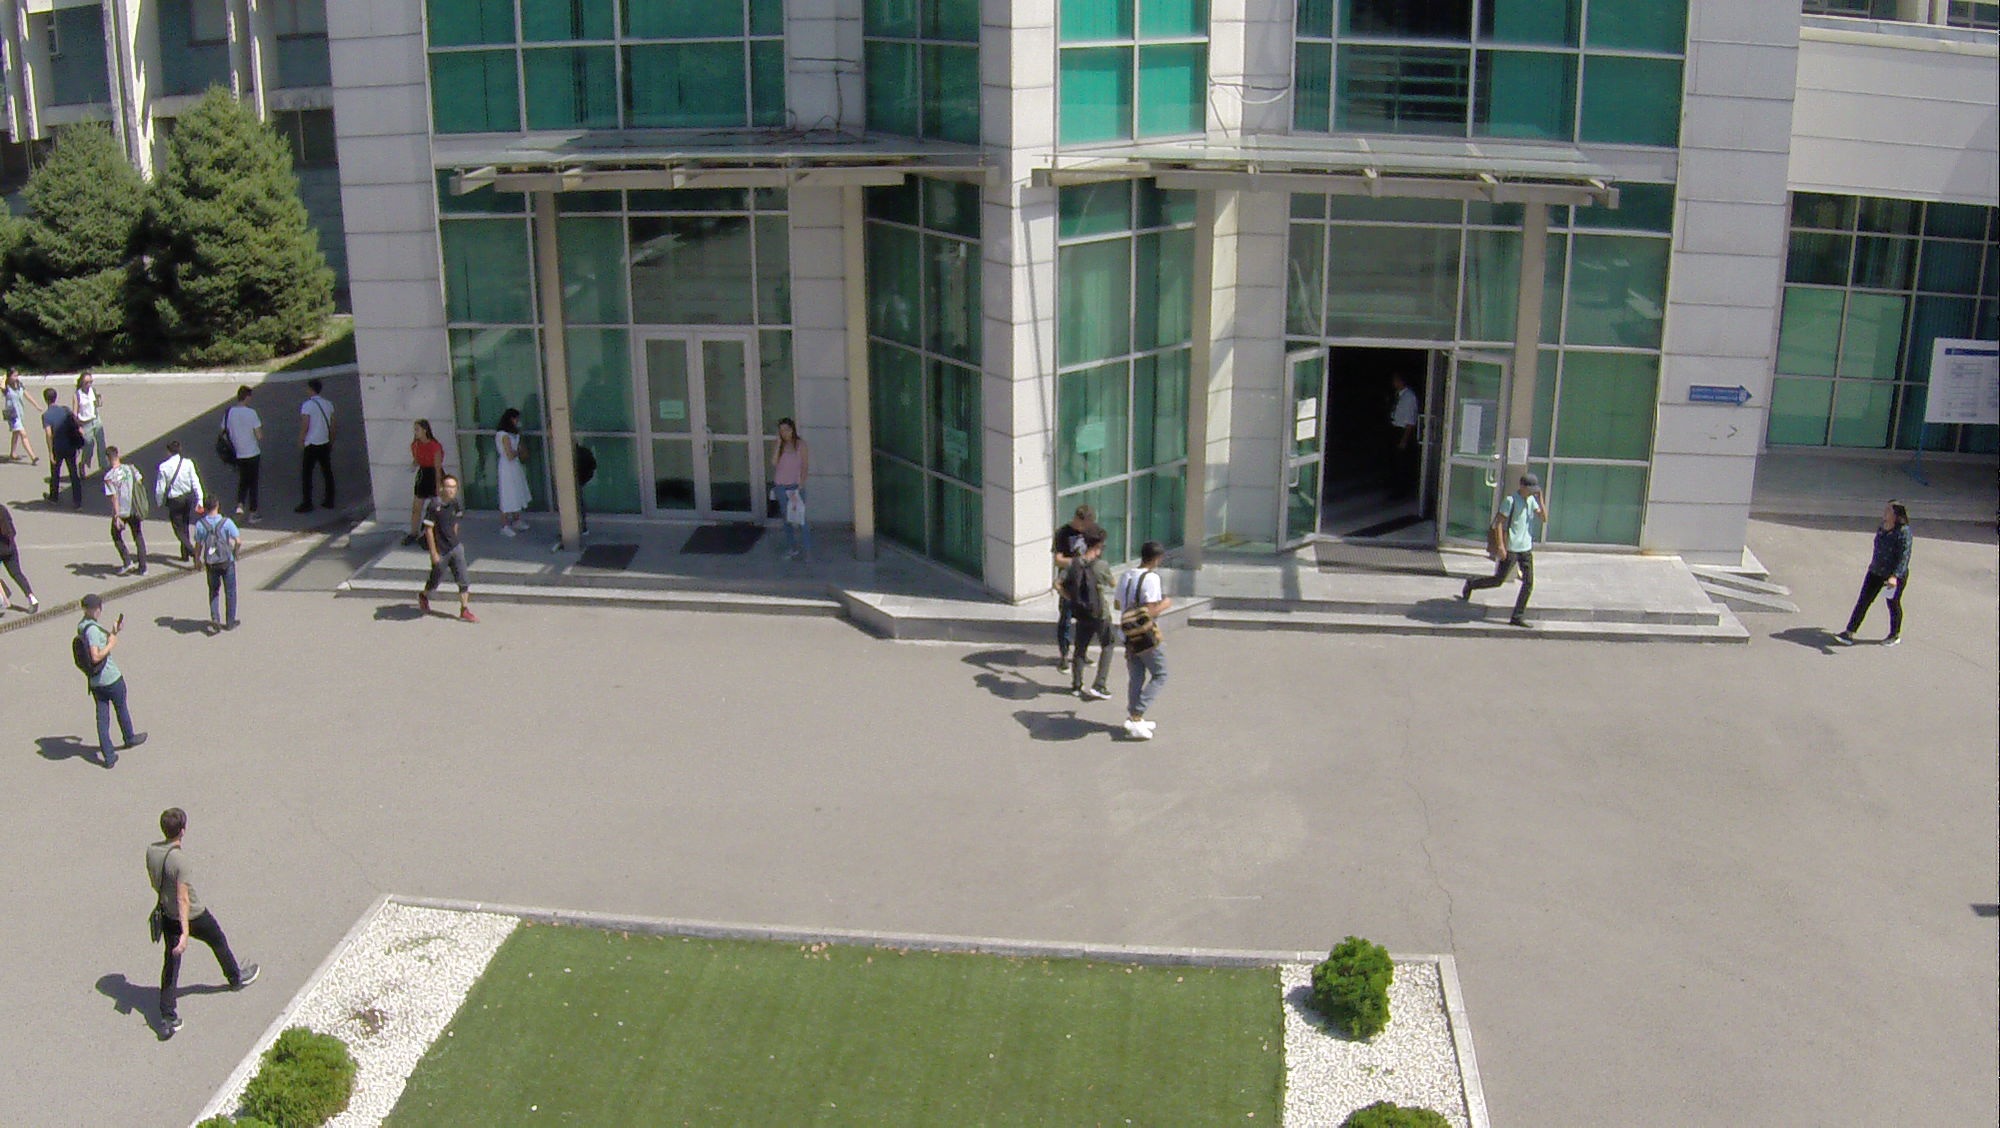person: (1456, 465, 1548, 638), (62, 591, 150, 767), (1832, 497, 1919, 654), (1053, 528, 1120, 708), (1113, 540, 1169, 748), (413, 475, 486, 627), (391, 407, 448, 545), (191, 495, 242, 642), (764, 417, 813, 561), (293, 375, 338, 518), (36, 388, 85, 514), (225, 380, 268, 523), (103, 447, 146, 576), (492, 405, 533, 539), (1, 493, 41, 618), (158, 439, 197, 569), (75, 371, 110, 484), (1, 367, 39, 469)
